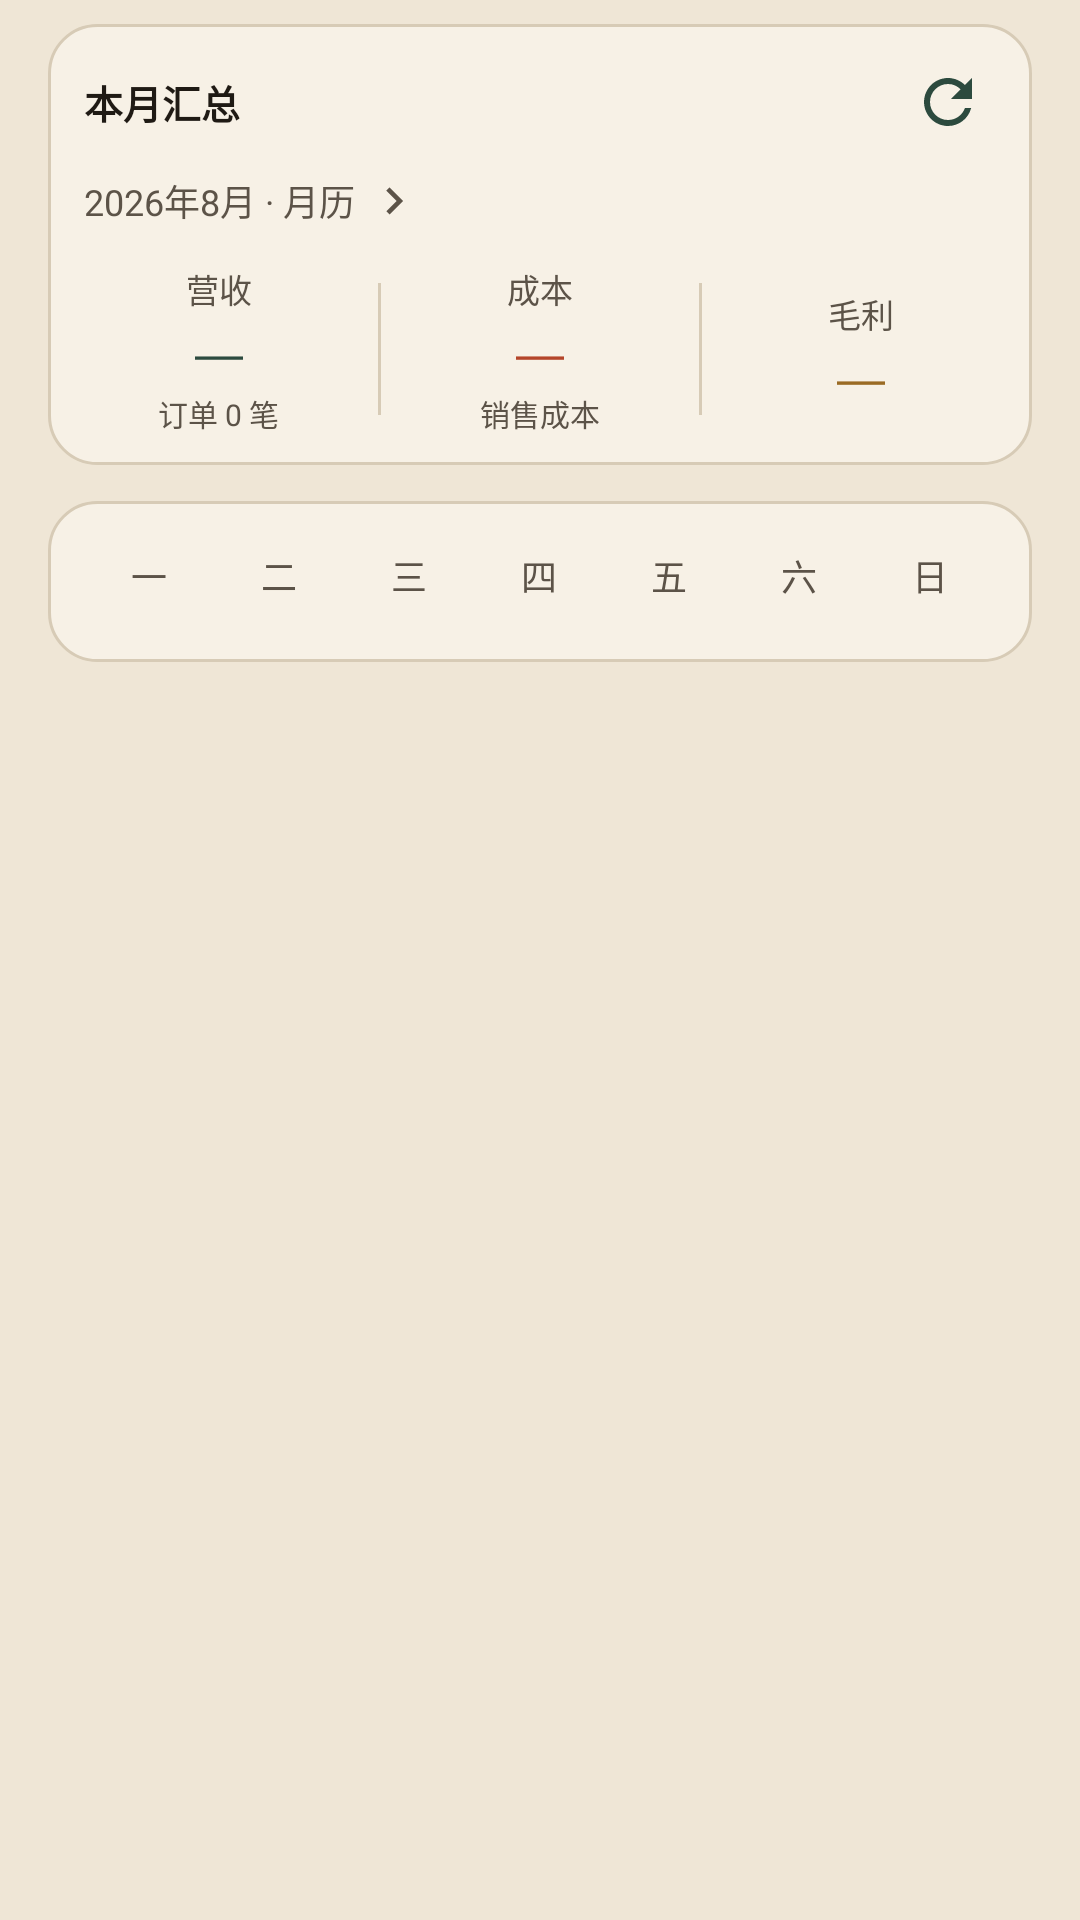

Screen size 1080px x 1920px. Icon name, then its center in pixels as (x=x, y=y):
刷新: (x=948, y=102)
